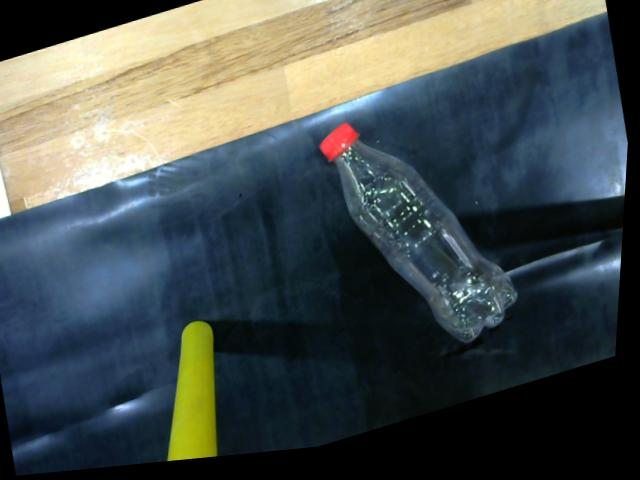bottle: (317, 125, 534, 357)
